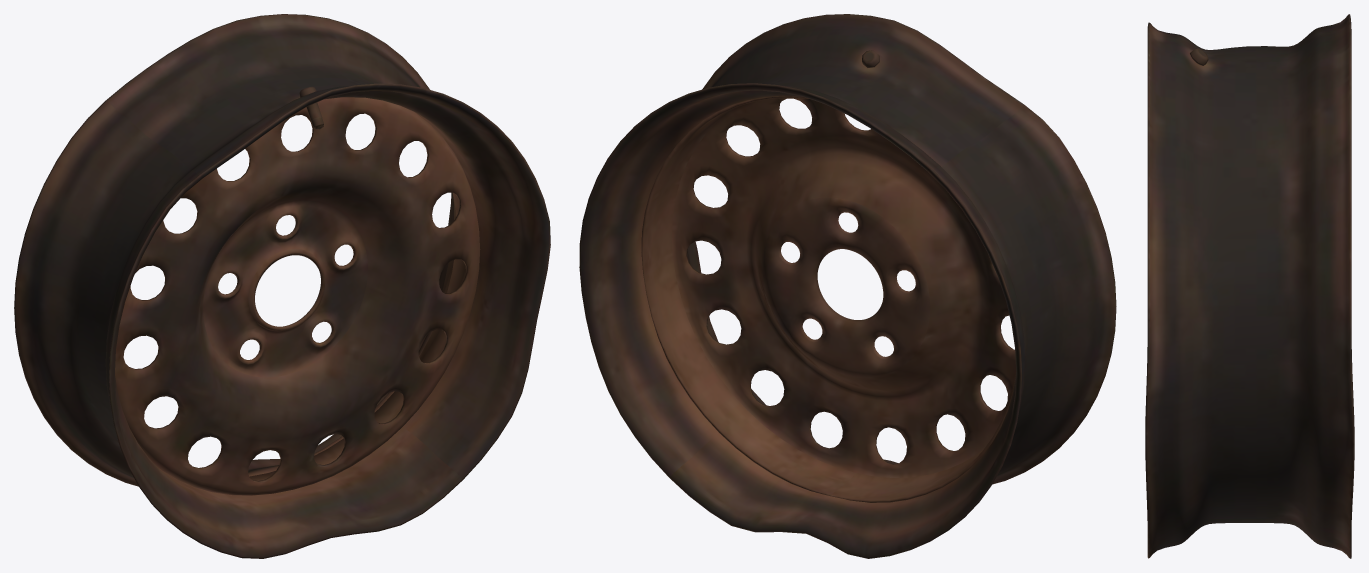
The model's file is wheel-rim.glb.
3 views of the same model, side by side, from view 1: azimuth 30°, elevation 25°; view 2: azimuth 150°, elevation 25°; view 3: azimuth 270°, elevation 25° (orthographic). The views are drawn at different scales.
Visible parts, largest first — view 1: rusted_wheel_rim_01; view 2: rusted_wheel_rim_01; view 3: rusted_wheel_rim_01.
Part boxes in pixels (bbox=[...]): rusted_wheel_rim_01: bbox=[14, 14, 550, 558]; rusted_wheel_rim_01: bbox=[579, 14, 1116, 558]; rusted_wheel_rim_01: bbox=[1145, 14, 1354, 558].
Bounding box in the file's own units: 0.4029 × 0.3955 × 0.1541.
Materials: 1 (1 with a texture image).
